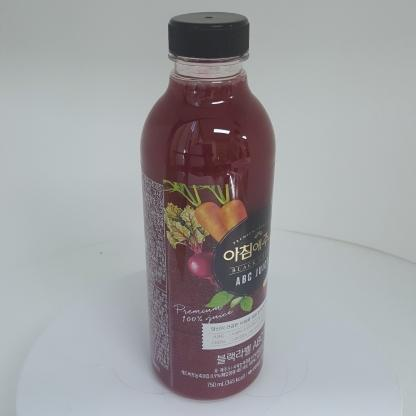--------------ABC--750ML: (140, 12, 276, 400)
